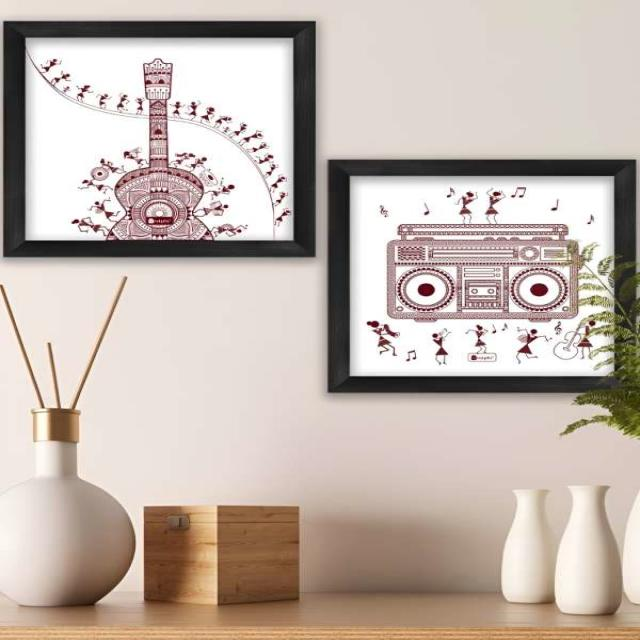painting: (4, 19, 315, 258), (330, 159, 640, 397)
